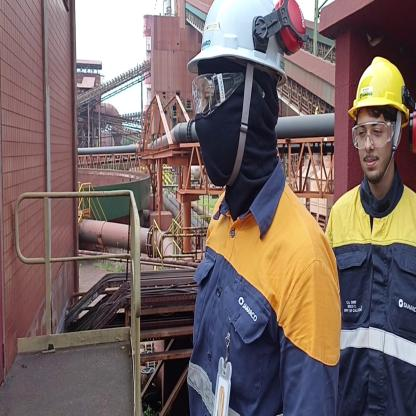Balaclava: (200, 75, 283, 193)
C_eletrica: (323, 179, 416, 416)
Capacete: (196, 0, 289, 69), (345, 46, 409, 111)
Operacional: (188, 196, 340, 416)
